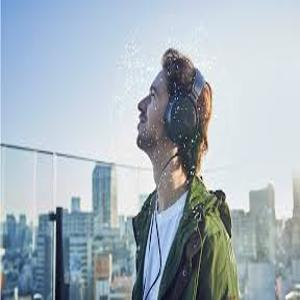Headphones: (162, 63, 207, 141)
